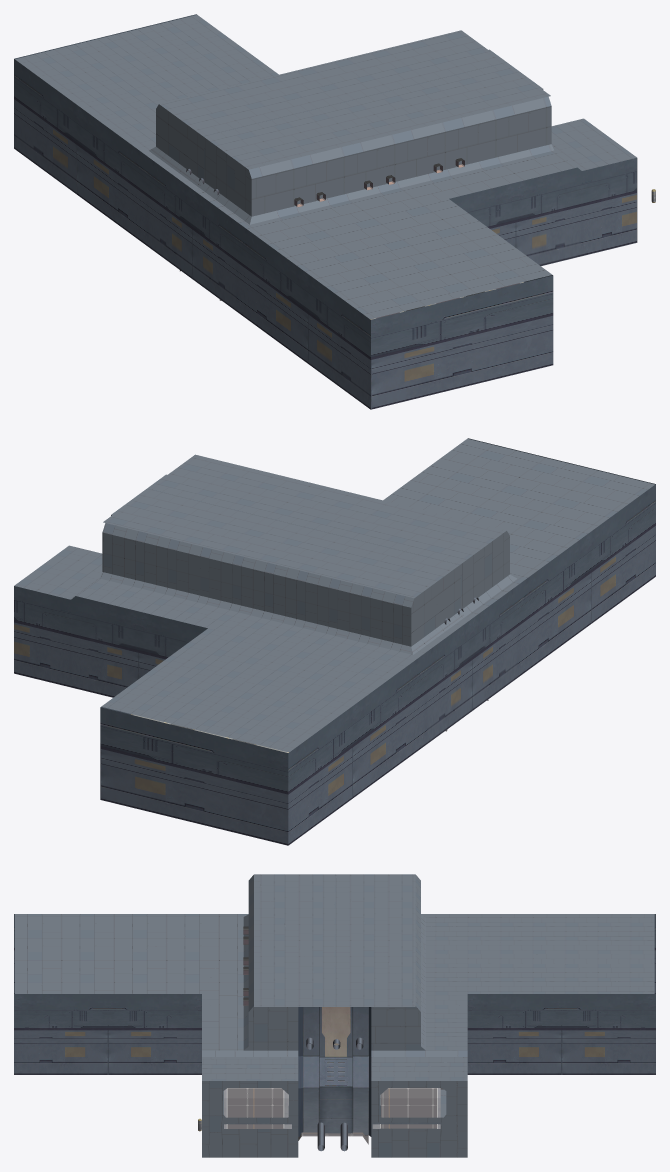
The model's file is GroupBase (merge).fbx.
3 renders of one model, top to bottom at view 1: azimuth 30°, elevation 25°; view 2: azimuth 150°, elevation 25°; view 3: azimuth 270°, elevation 25°, orthographic. The views are drawn at different scales.
Parts seen in each view (by area): view 1: ZB02qiang01, ZB02qiang02; view 2: ZB02qiang01, ZB02qiang02; view 3: ZB02qiang01, ZB02qiang02, ZB02wujian01, ZB02dimian, ZB02luyan.
Boxes of the visible parts, x1,y1,x2,y2 form: ZB02qiang01: [15, 15, 637, 319]; ZB02qiang02: [14, 14, 636, 409]; ZB02qiang01: [14, 438, 654, 752]; ZB02qiang02: [14, 438, 655, 845]; ZB02qiang01: [15, 874, 654, 1157]; ZB02qiang02: [14, 914, 655, 1074]; ZB02wujian01: [298, 1007, 371, 1136]; ZB02dimian: [227, 1088, 436, 1144]; ZB02luyan: [224, 1088, 443, 1128].
Size of what is drawn, in the model's own units: 52.59 by 19.03 by 83.72.
